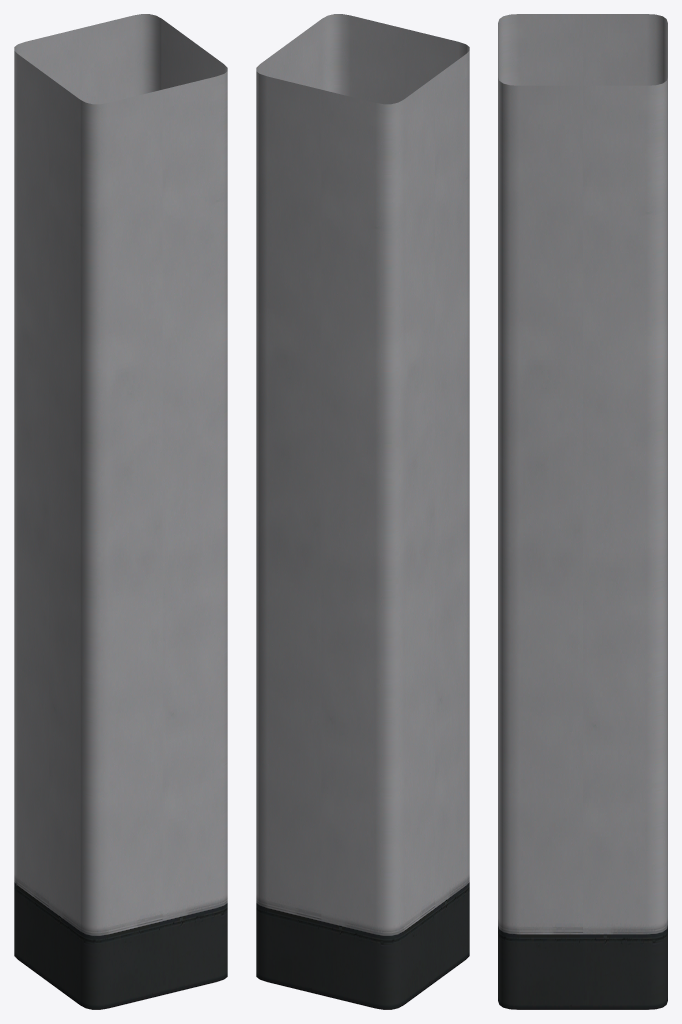
Rendered from Pillar_Full.fbx.
3 renders of one model, left to right at view 1: azimuth 30°, elevation 25°; view 2: azimuth 150°, elevation 25°; view 3: azimuth 270°, elevation 25°, orthographic. The views are drawn at different scales.
Visible parts, largest first — view 1: Pillar_Full; view 2: Pillar_Full; view 3: Pillar_Full.
Part boxes in pixels (x1,y1,x2,y2): Pillar_Full: [14, 14, 227, 1009]; Pillar_Full: [256, 14, 469, 1009]; Pillar_Full: [498, 14, 667, 1009].
Bounding box in the file's own units: 0.5 × 3 × 0.5.
Materials: 1 (1 with a texture image).
